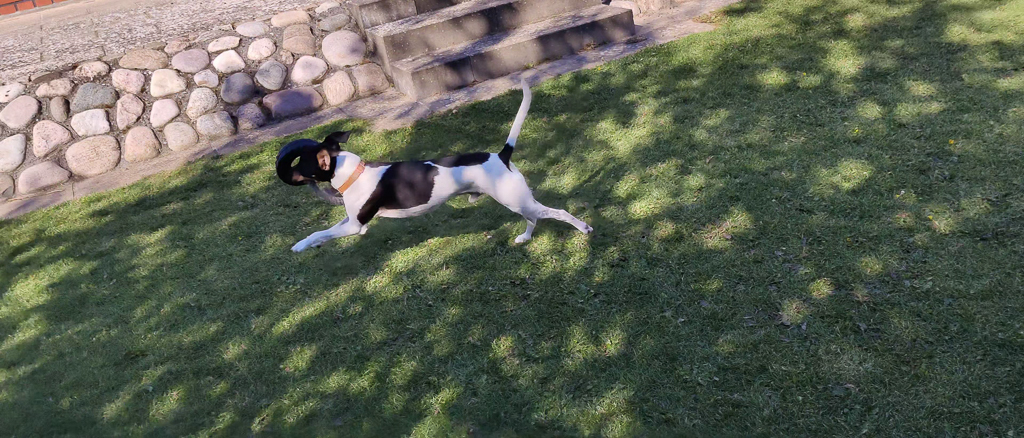Dog: (267, 69, 612, 262)
